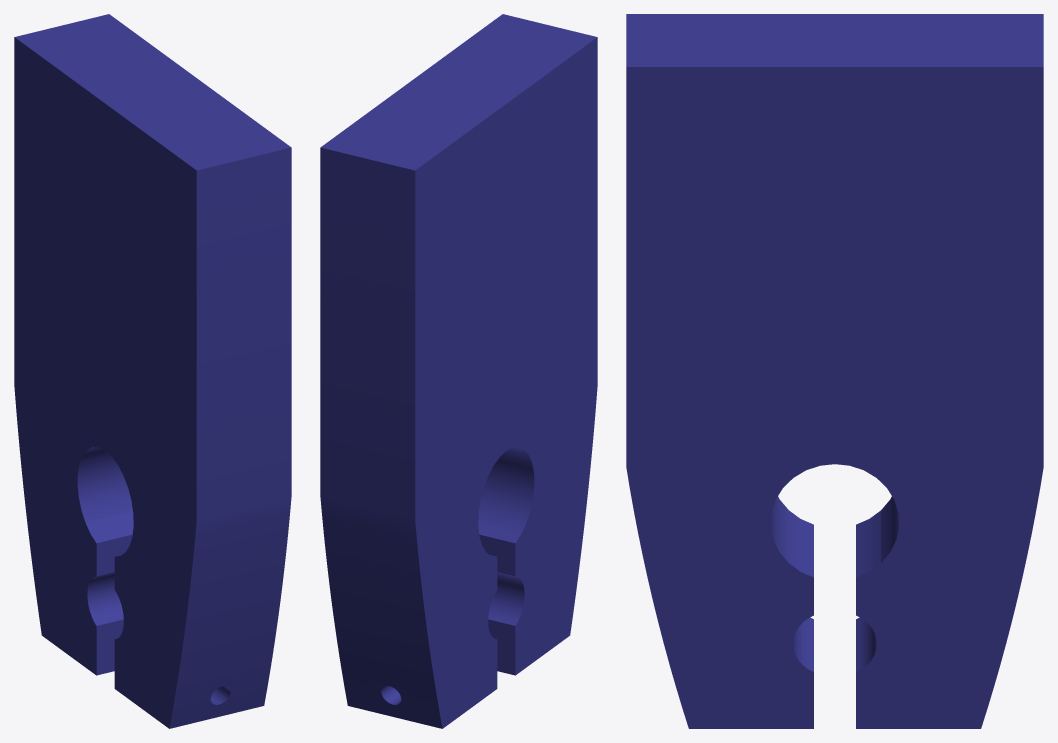
Rendered from original-2.obj.
3 renders of one model, left to right at view 1: azimuth 30°, elevation 25°; view 2: azimuth 150°, elevation 25°; view 3: azimuth 270°, elevation 25°, orthographic. The views are drawn at different scales.
Visible parts, largest first — view 1: Group2/mesh1/mesh1-geometry#mesh1-geometry; view 2: Group2/mesh1/mesh1-geometry#mesh1-geometry; view 3: Group2/mesh1/mesh1-geometry#mesh1-geometry.
Boxes of the visible parts, x1=… form: Group2/mesh1/mesh1-geometry#mesh1-geometry: x1=14, y1=14, x2=291, y2=728; Group2/mesh1/mesh1-geometry#mesh1-geometry: x1=320, y1=14, x2=597, y2=728; Group2/mesh1/mesh1-geometry#mesh1-geometry: x1=626, y1=14, x2=1043, y2=728.
Size of the model in its own units: 0.0429 by 0.2503 by 0.143.
